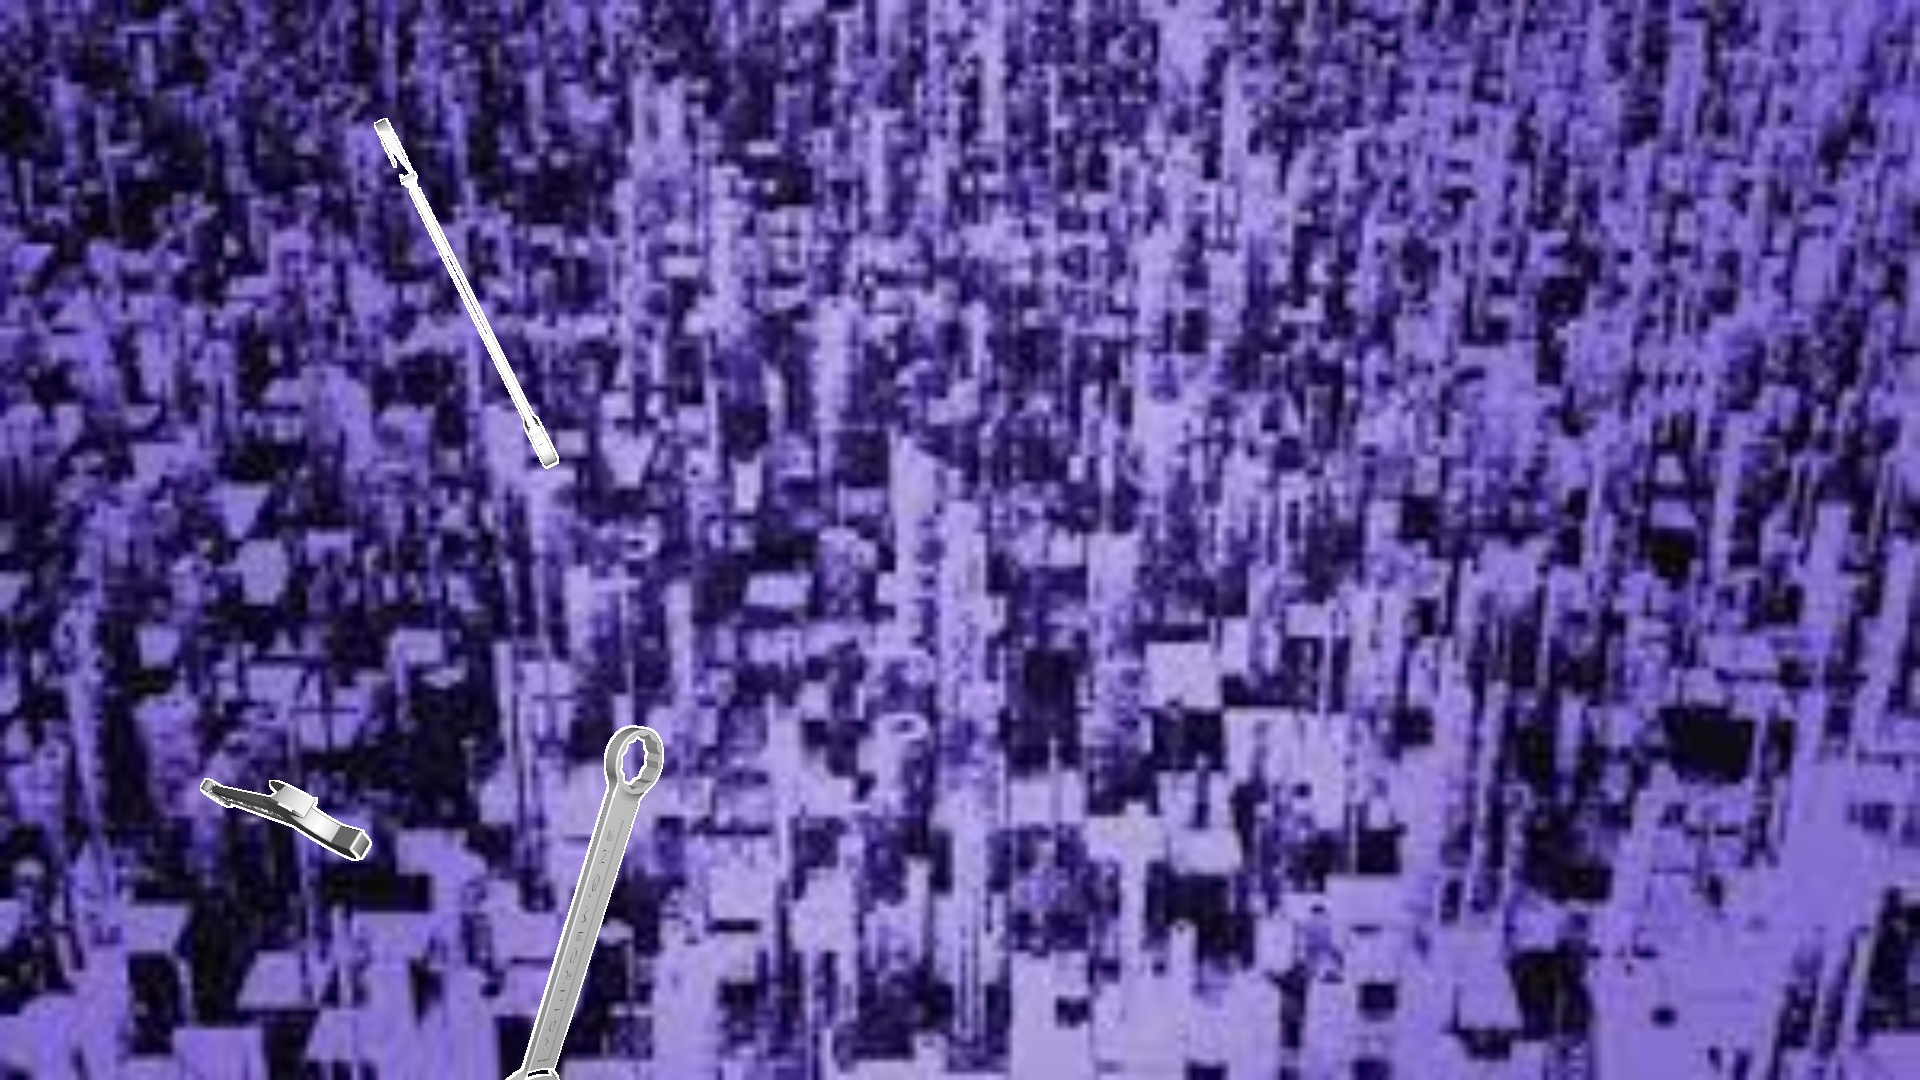Mixed Key: (375, 117, 558, 468), (505, 725, 663, 1079), (200, 778, 371, 860)
